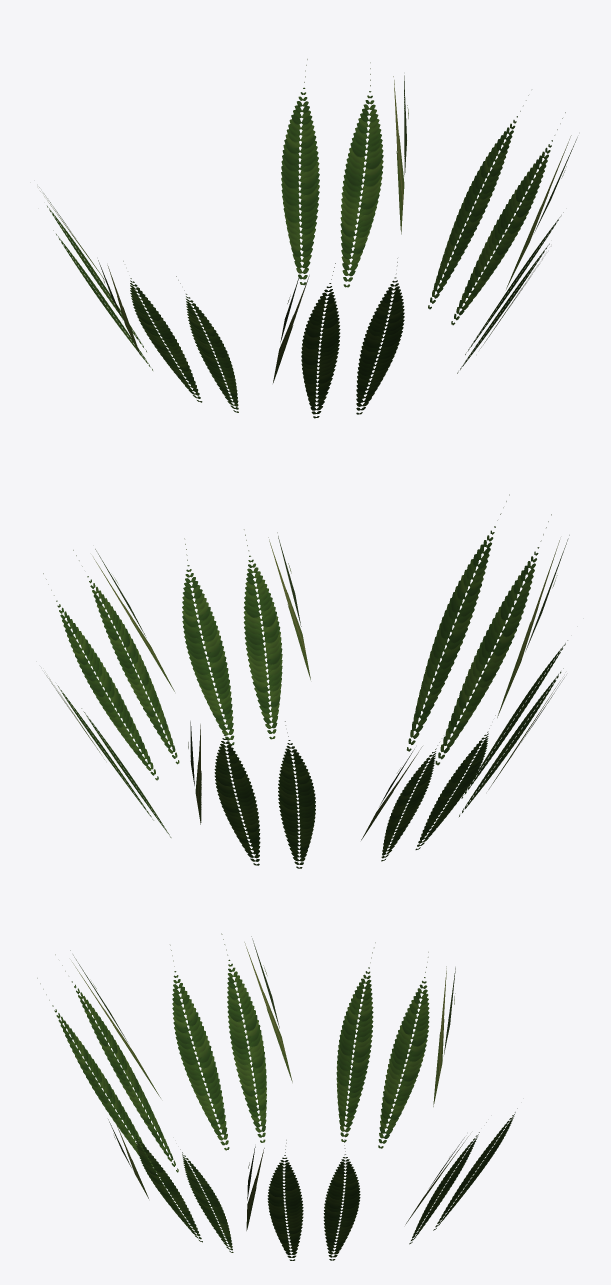
The model's file is FernClump_0.fbx.
3 renders of one model, top to bottom at view 1: azimuth 30°, elevation 25°; view 2: azimuth 150°, elevation 25°; view 3: azimuth 270°, elevation 25°, orthographic. The views are drawn at different scales.
Visible parts, largest first — view 1: FernClump_0; view 2: FernClump_0; view 3: FernClump_0.
Boxes of the visible parts, x1=… form: FernClump_0: x1=39, y1=59, x2=577, y2=418; FernClump_0: x1=43, y1=494, x2=569, y2=868; FernClump_0: x1=37, y1=933, x2=517, y2=1260.
Size of the model in its own units: 1.22 by 0.556 by 1.32.
